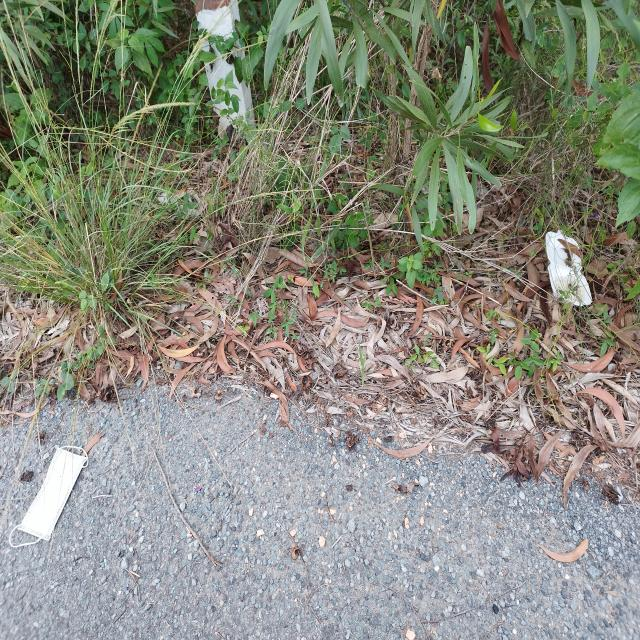foam box: (546, 228, 593, 308)
mask: (9, 445, 89, 548)
